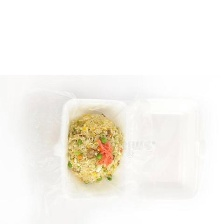foam_box: (48, 89, 204, 209)
